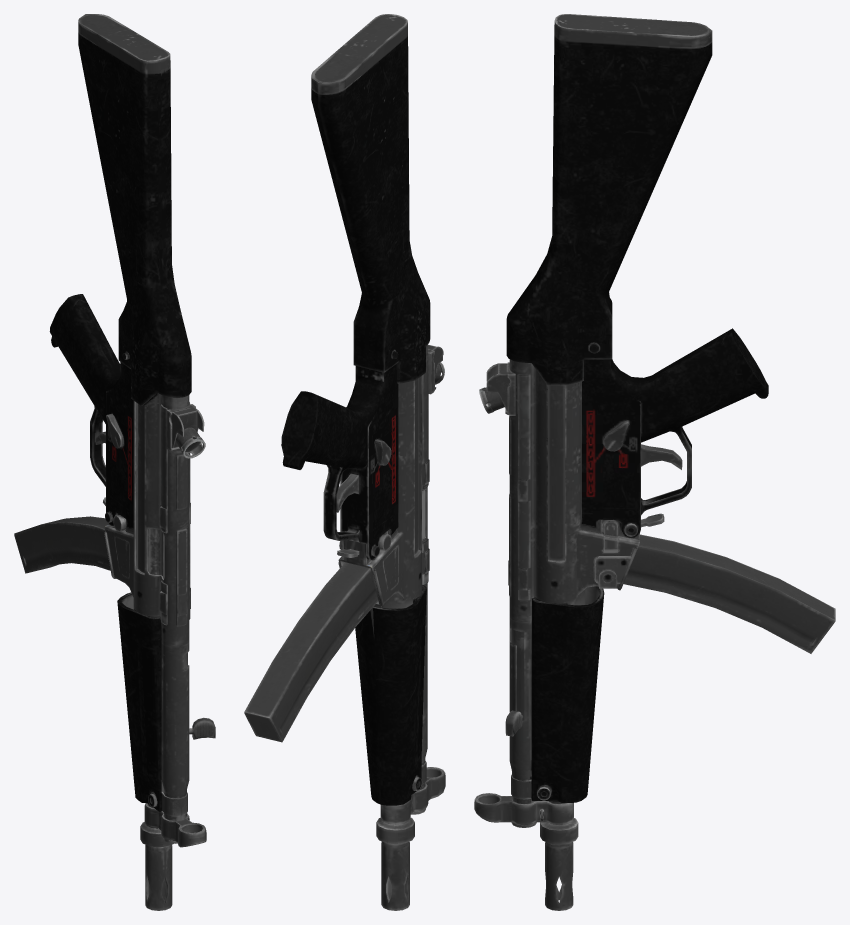
The picture shows the model from 3 angles, left to right: view 1: azimuth 30°, elevation 25°; view 2: azimuth 150°, elevation 25°; view 3: azimuth 270°, elevation 25°; orthographic projection. The views are drawn at different scales.
Parts seen in each view (by area): view 1: MP5_upd, MP5_upd_mag; view 2: MP5_upd, MP5_upd_mag; view 3: MP5_upd, MP5_upd_mag.
Part boxes in pixels (<box>): MP5_upd: <box>49,14,215,910</box>; MP5_upd_mag: <box>14,516,110,573</box>; MP5_upd: <box>281,14,445,910</box>; MP5_upd_mag: <box>244,562,378,742</box>; MP5_upd: <box>474,14,768,910</box>; MP5_upd_mag: <box>623,534,835,653</box>.
Bounding box in the file's own units: 0.0474 × 0.62 × 0.2296.
Materials: 1 (1 with a texture image).
